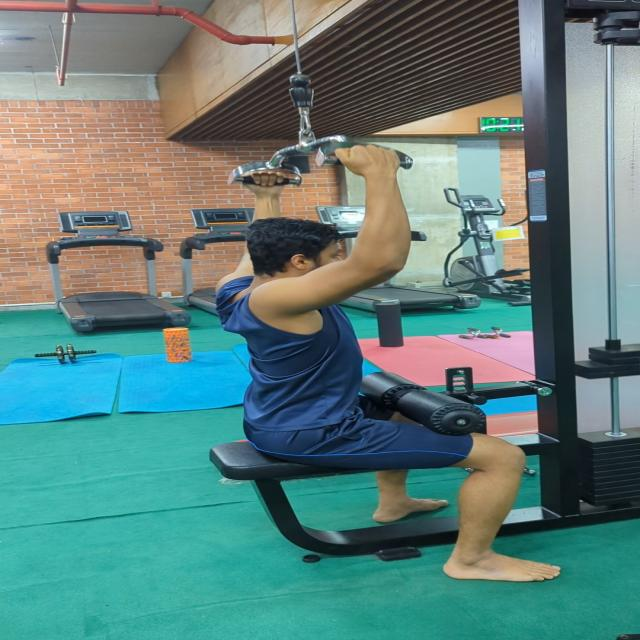Normal_LatPulldown: (178, 143, 578, 592)
